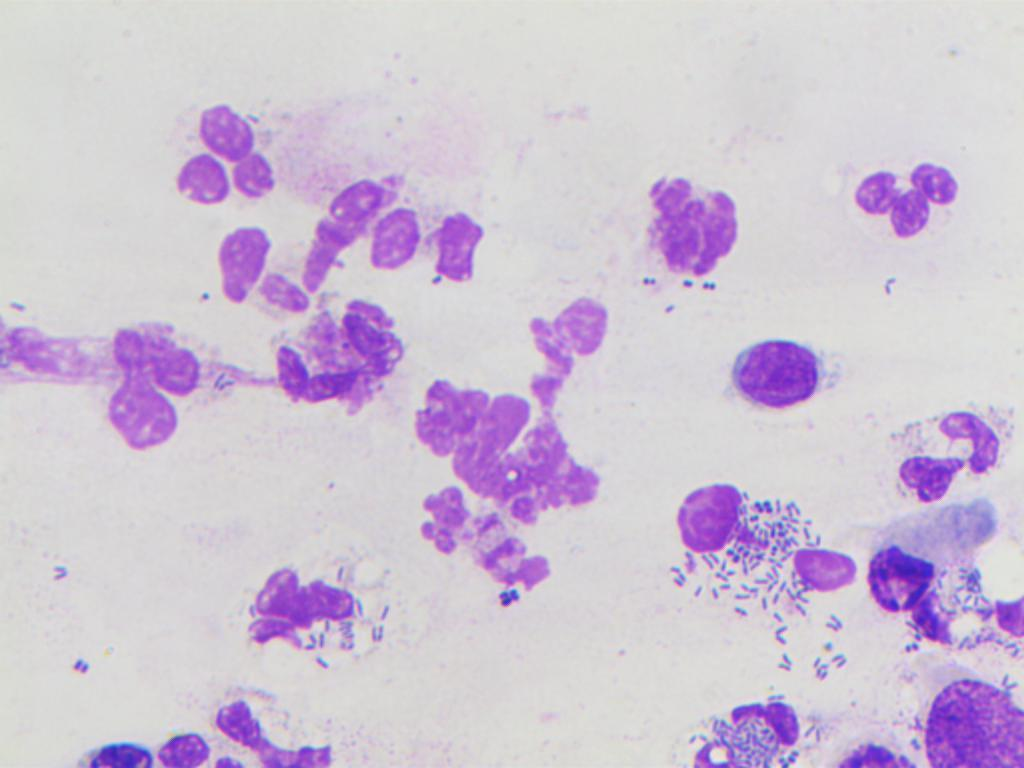epithelial: (900, 674, 1024, 768)
lymphocyte: (721, 324, 839, 427)
neutrophil: (662, 476, 856, 644), (401, 368, 622, 510), (863, 480, 1024, 660), (77, 302, 214, 466), (268, 295, 413, 431), (238, 545, 398, 667), (158, 680, 369, 768), (410, 472, 552, 600), (369, 172, 490, 299), (160, 92, 290, 209), (632, 165, 746, 292), (845, 146, 976, 254), (198, 217, 322, 324), (674, 680, 820, 768), (880, 406, 1011, 494), (527, 296, 618, 378)
